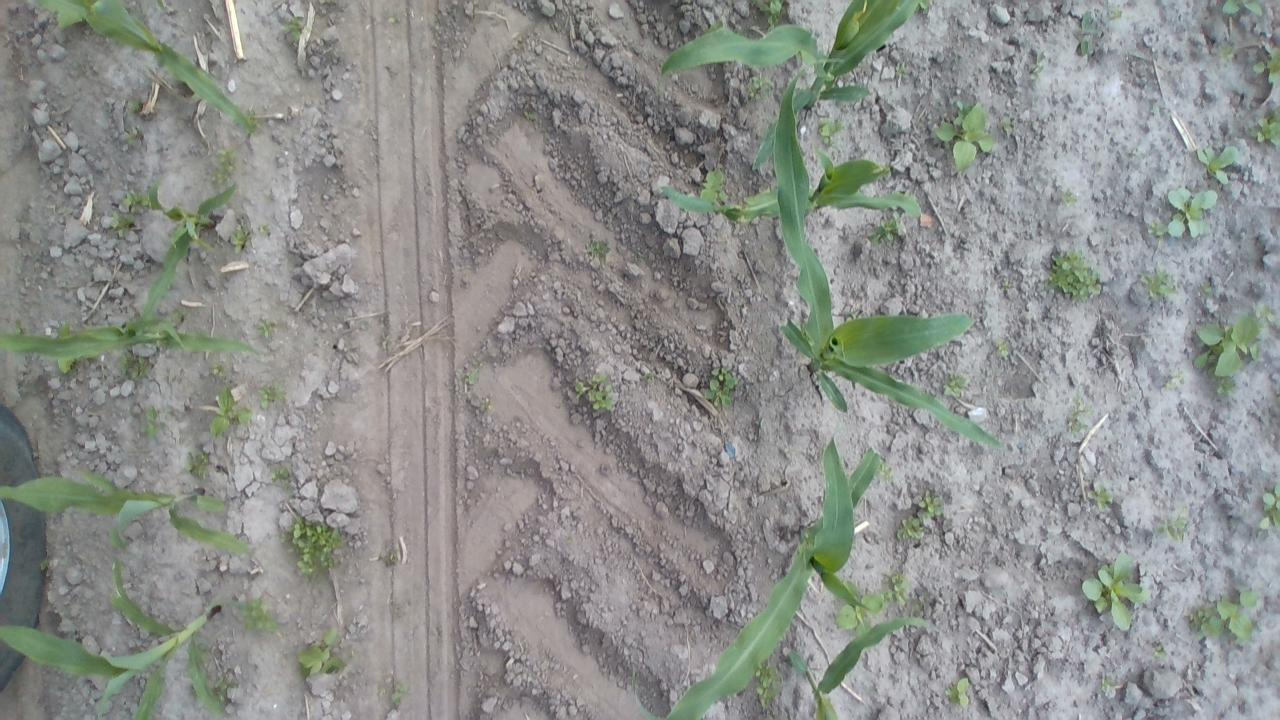Maize: (773, 58, 1007, 455), (632, 433, 882, 720), (656, 0, 924, 173), (0, 561, 226, 720), (39, 0, 254, 133), (0, 470, 263, 562), (660, 145, 926, 223), (790, 615, 933, 720), (141, 180, 239, 320), (0, 318, 262, 356)
Weeds: (1192, 314, 1260, 396), (1082, 552, 1150, 631), (932, 100, 994, 170), (280, 515, 343, 579), (1188, 590, 1258, 646), (1044, 248, 1102, 301), (835, 580, 885, 640), (1167, 186, 1217, 239), (296, 626, 346, 675), (209, 385, 254, 438), (1196, 144, 1240, 185), (234, 597, 278, 632), (574, 373, 614, 411), (869, 209, 906, 249), (704, 366, 739, 408), (754, 657, 782, 709), (1140, 267, 1179, 298), (1066, 394, 1094, 434), (1249, 109, 1280, 145), (1075, 11, 1099, 56), (698, 169, 728, 205), (752, 0, 788, 29), (881, 571, 910, 606), (210, 148, 238, 183), (817, 115, 846, 148), (1156, 514, 1190, 542), (1260, 482, 1280, 529), (140, 404, 166, 440), (230, 213, 252, 255), (118, 352, 151, 380), (1253, 48, 1280, 82), (258, 380, 288, 409), (896, 514, 926, 541), (183, 450, 210, 478), (1087, 485, 1113, 512), (109, 210, 134, 238), (946, 678, 970, 707), (919, 489, 943, 518), (122, 189, 151, 213), (748, 75, 774, 101), (1221, 0, 1262, 16), (941, 372, 966, 398), (214, 678, 238, 704), (1254, 304, 1276, 331), (122, 124, 146, 148), (461, 360, 484, 385), (1028, 50, 1048, 78), (280, 15, 303, 39), (128, 0, 148, 26), (254, 318, 277, 340), (56, 358, 78, 378), (587, 239, 610, 258), (1217, 44, 1241, 62), (269, 465, 290, 484), (392, 682, 410, 704), (876, 461, 894, 481), (245, 108, 262, 129), (1146, 219, 1168, 235), (127, 97, 145, 115), (995, 337, 1010, 356), (1108, 5, 1122, 24), (198, 642, 212, 661), (998, 116, 1014, 132), (1062, 188, 1078, 204), (212, 361, 228, 377), (895, 61, 909, 78), (170, 308, 188, 320), (1100, 676, 1114, 690), (258, 222, 272, 236), (12, 320, 24, 336), (915, 0, 932, 11), (1152, 645, 1166, 658), (58, 322, 70, 336), (642, 371, 655, 383), (523, 110, 537, 120), (40, 558, 49, 570), (1001, 282, 1012, 291), (163, 406, 173, 413), (754, 419, 761, 425)
